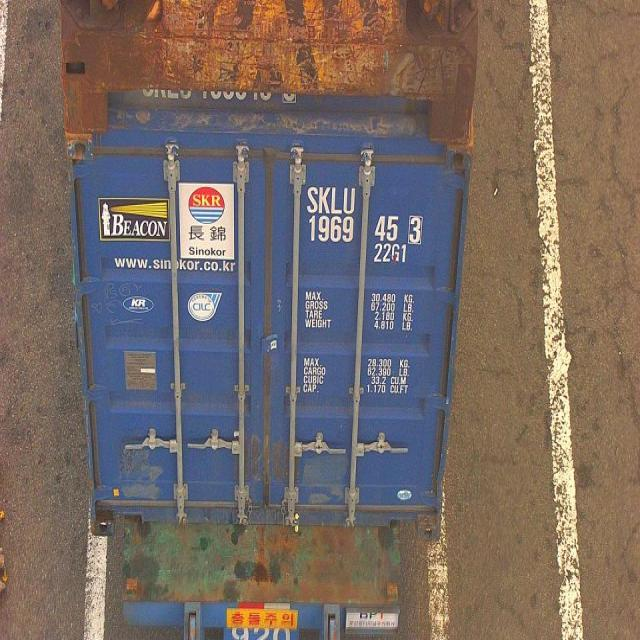ISO: (374, 246, 410, 264)
container_number: (310, 188, 428, 242)
